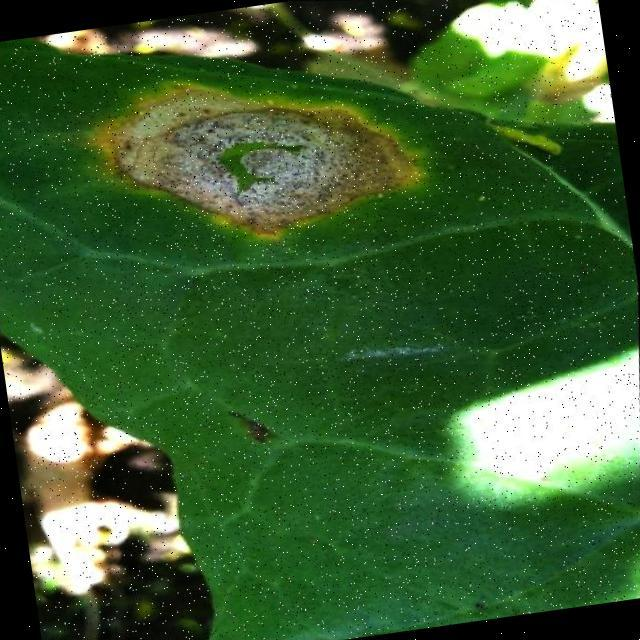Bacterial: (30, 29, 475, 362)
